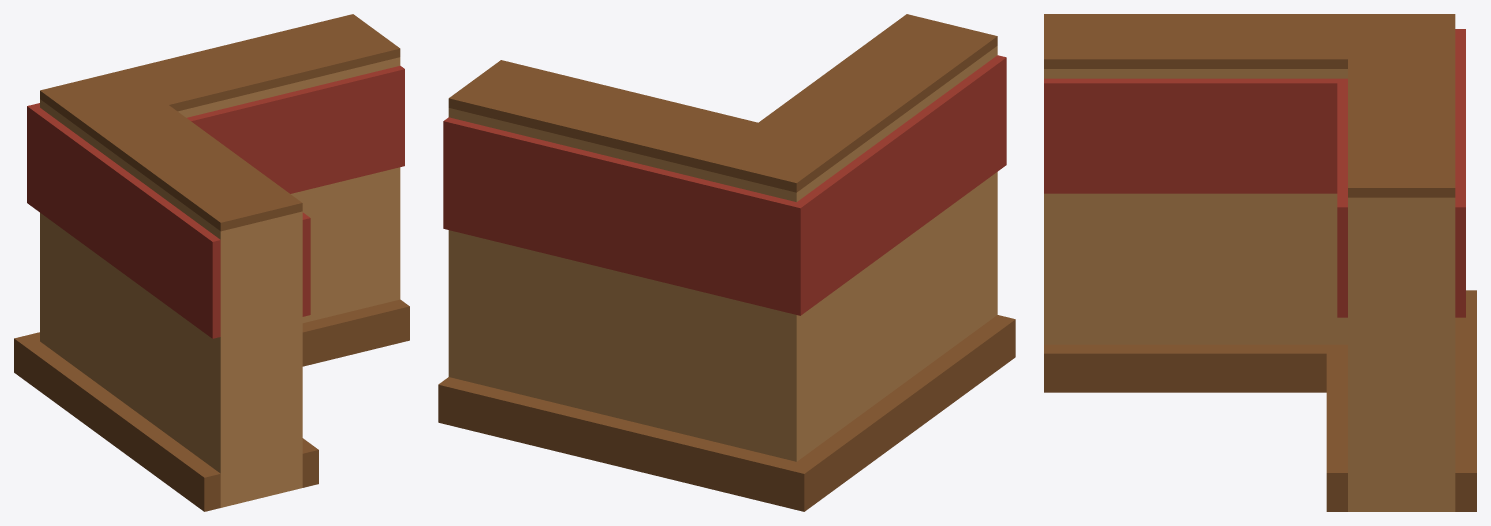
The model's file is partition-elbow.glb.
3 renders of one model, left to right at view 1: azimuth 30°, elevation 25°; view 2: azimuth 150°, elevation 25°; view 3: azimuth 270°, elevation 25°, orthographic. The views are drawn at different scales.
Visible parts, largest first — view 1: partition-elbow; view 2: partition-elbow; view 3: partition-elbow.
Part boxes in pixels (x1=…): partition-elbow: x1=14, y1=14, x2=409, y2=511; partition-elbow: x1=438, y1=14, x2=1015, y2=511; partition-elbow: x1=1044, y1=14, x2=1476, y2=511.
Bounding box in the file's own units: 0.605 × 0.5 × 0.605.
Materials: 1 (1 with a texture image).
